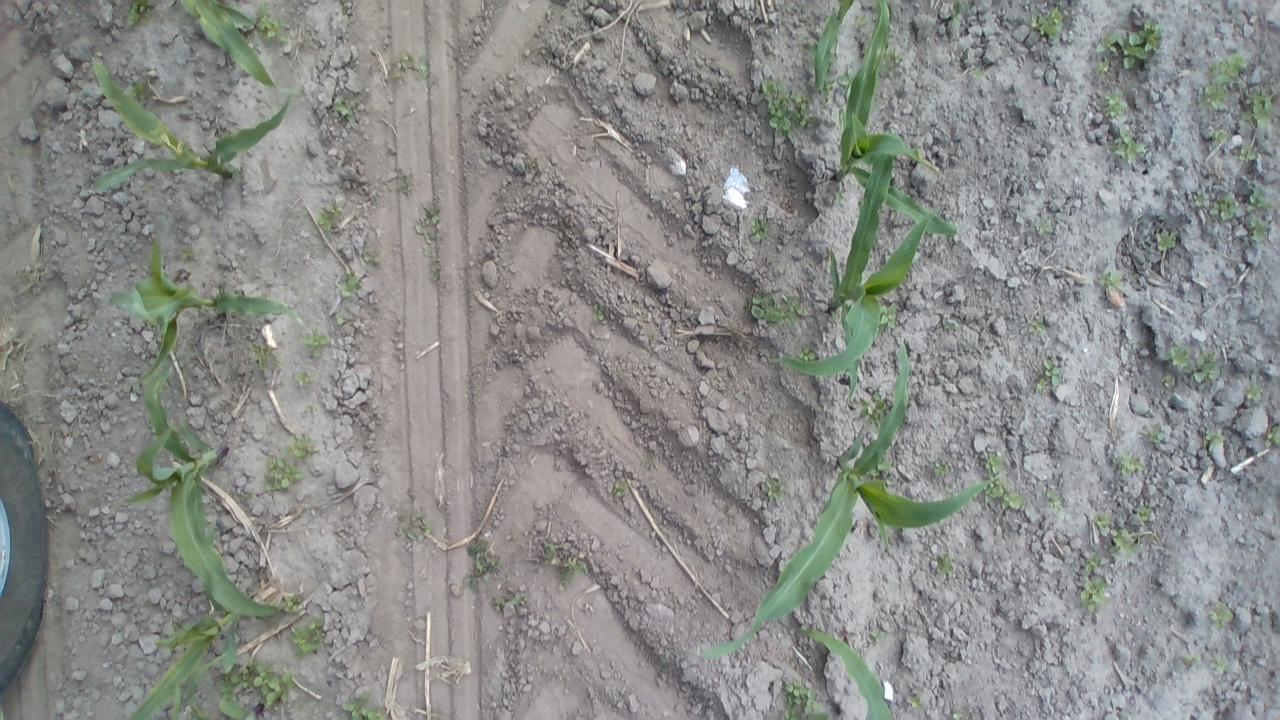Maize: (696, 349, 994, 658), (120, 360, 282, 616), (774, 150, 930, 404), (830, 0, 959, 241), (84, 55, 290, 196), (110, 240, 296, 388), (126, 611, 242, 720), (794, 622, 893, 720), (162, 0, 272, 86), (810, 0, 860, 97)
Weeds: (217, 660, 294, 710), (1096, 18, 1166, 72), (259, 432, 318, 495), (760, 77, 818, 137), (1199, 52, 1247, 116), (981, 452, 1026, 510), (1162, 342, 1218, 384), (750, 291, 809, 326), (782, 681, 834, 720), (252, 0, 290, 46), (1240, 87, 1278, 132), (291, 612, 324, 660), (340, 687, 388, 720), (1110, 125, 1147, 162), (1030, 3, 1066, 41), (467, 541, 503, 576), (392, 49, 430, 82), (1106, 525, 1142, 559), (1078, 574, 1110, 612), (560, 558, 592, 592), (1208, 192, 1240, 223), (404, 510, 434, 543), (416, 206, 441, 244), (861, 394, 886, 430), (1246, 183, 1274, 215), (304, 329, 332, 360), (1036, 358, 1062, 391), (1112, 454, 1144, 479), (334, 270, 362, 298), (1206, 602, 1234, 630), (315, 204, 344, 231), (866, 460, 894, 487), (126, 0, 154, 26), (1104, 90, 1128, 120), (250, 342, 275, 370), (332, 95, 356, 123), (749, 214, 771, 242), (933, 552, 958, 576), (882, 45, 904, 72), (836, 66, 854, 98), (765, 476, 786, 502), (879, 302, 898, 330), (1154, 229, 1178, 251), (494, 591, 524, 608), (1096, 270, 1124, 288), (282, 591, 303, 613), (127, 77, 145, 102), (1141, 428, 1167, 445), (360, 247, 384, 265), (876, 522, 894, 546), (1048, 487, 1064, 514), (1249, 218, 1266, 241), (1244, 382, 1263, 402), (1135, 504, 1154, 524), (1210, 657, 1232, 674), (1264, 424, 1280, 447), (1094, 512, 1114, 530), (953, 0, 966, 27), (1210, 126, 1229, 144), (190, 702, 208, 720), (798, 344, 816, 362), (542, 538, 556, 561), (1202, 429, 1222, 445), (930, 462, 952, 476), (1239, 146, 1258, 162), (335, 312, 352, 328), (1084, 556, 1100, 573), (852, 13, 868, 30), (870, 629, 890, 642), (1028, 319, 1044, 335), (295, 371, 312, 386), (593, 302, 605, 322), (180, 245, 196, 260), (614, 479, 626, 498), (1036, 222, 1053, 235), (1193, 191, 1206, 207), (1184, 654, 1200, 666), (968, 66, 984, 78), (832, 190, 844, 206), (909, 696, 924, 708), (944, 321, 960, 332), (949, 710, 963, 720), (303, 401, 313, 414), (526, 158, 538, 168)
